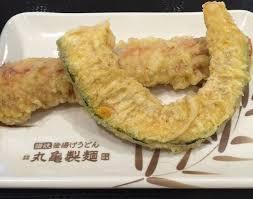pumpkin: (71, 20, 253, 148)
